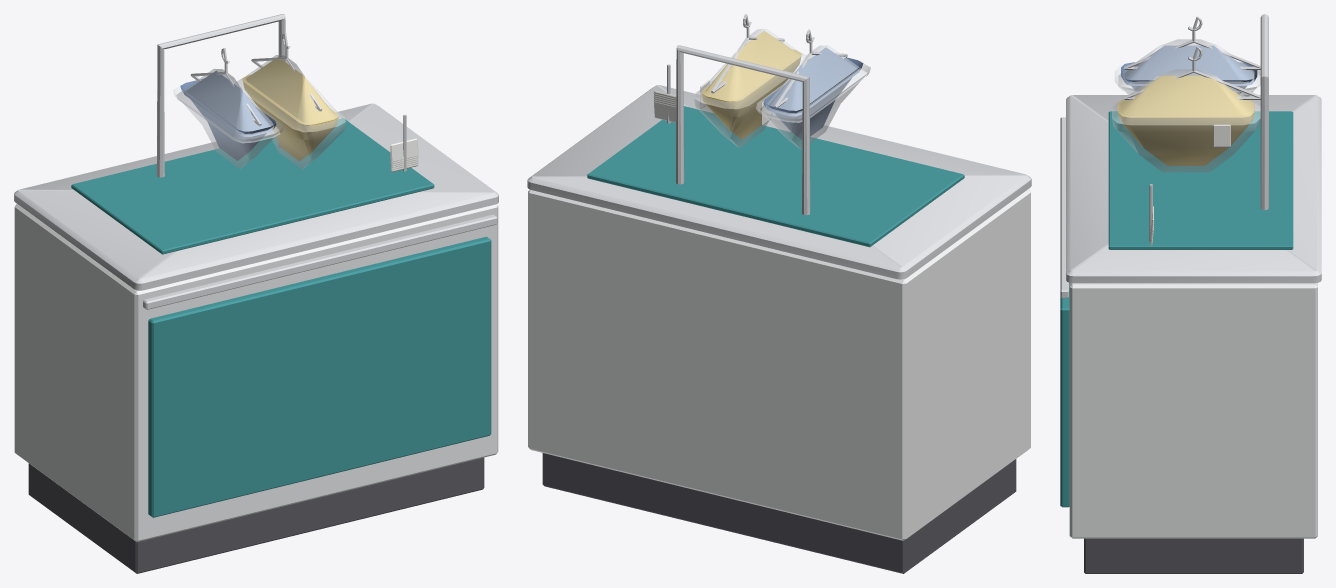
The model's file is dry-cleaners-and-alterations-shop-drop-off-counter-mod-68c7555a__34936.glb.
3 views of the same model, side by side, from view 1: azimuth 30°, elevation 25°; view 2: azimuth 150°, elevation 25°; view 3: azimuth 270°, elevation 25° (orthographic). The views are drawn at different scales.
Parts seen in each view (by area): view 1: drop-off-counter-module; view 2: drop-off-counter-module; view 3: drop-off-counter-module.
Boxes of the visible parts, x1,y1,x2,y2 form: drop-off-counter-module: (14,14,498,573); drop-off-counter-module: (527,14,1031,573); drop-off-counter-module: (1060,14,1321,573).
Bounding box in the file's own units: 1.2 × 1.42 × 0.736.
